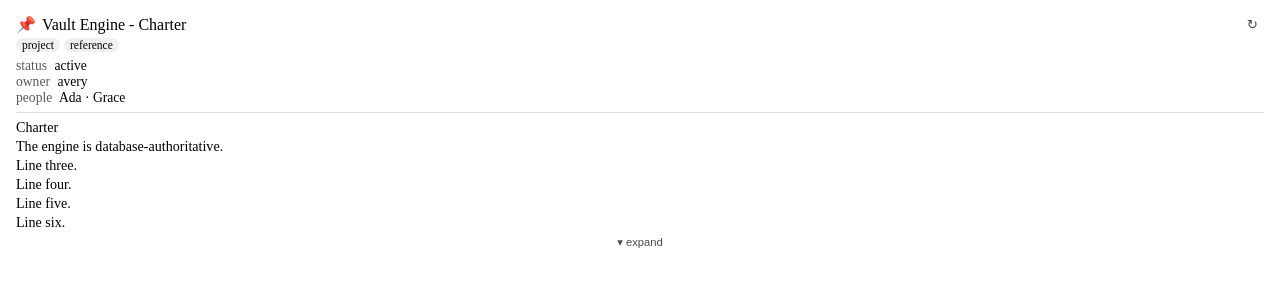
it: NodeCard › expand reveals the full body and persists via onSpecChange
Click the button "▾ expand" at (640, 242), box [611,235,669,250]
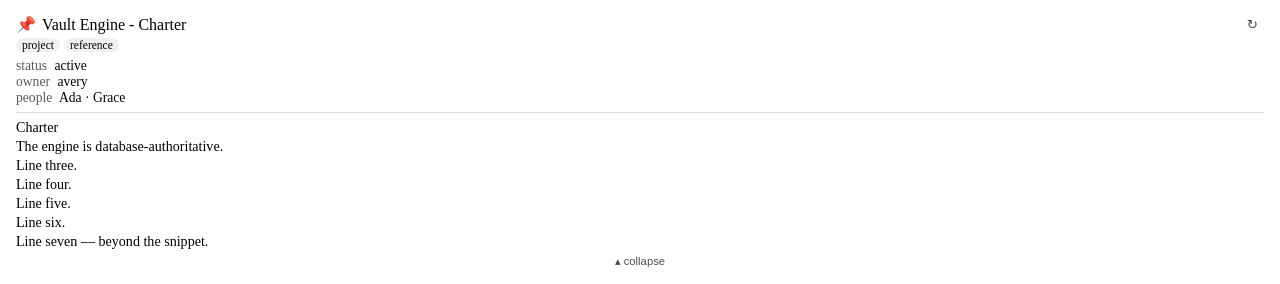
Now the text "Line seven — beyond the snippet." is shown, box [16,233,208,249]
